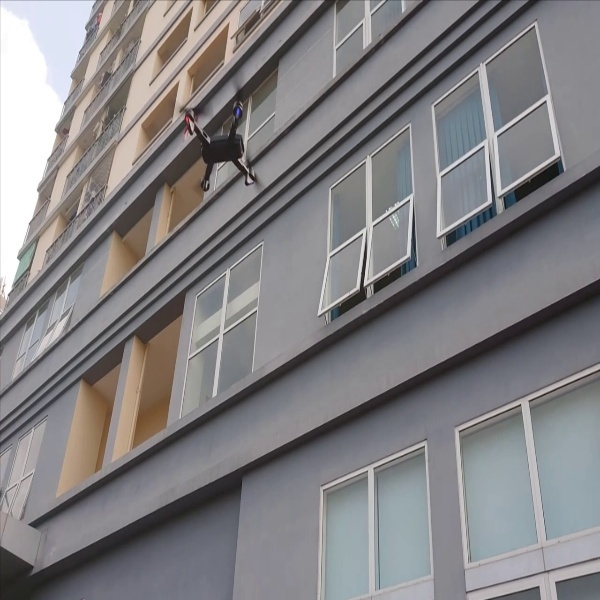drone: (171, 87, 275, 196)
